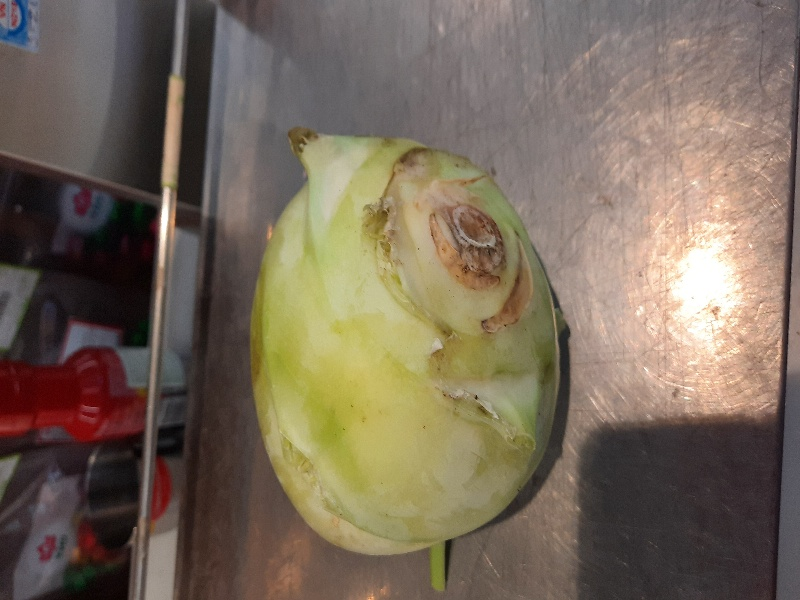vege: (236, 115, 570, 597)
